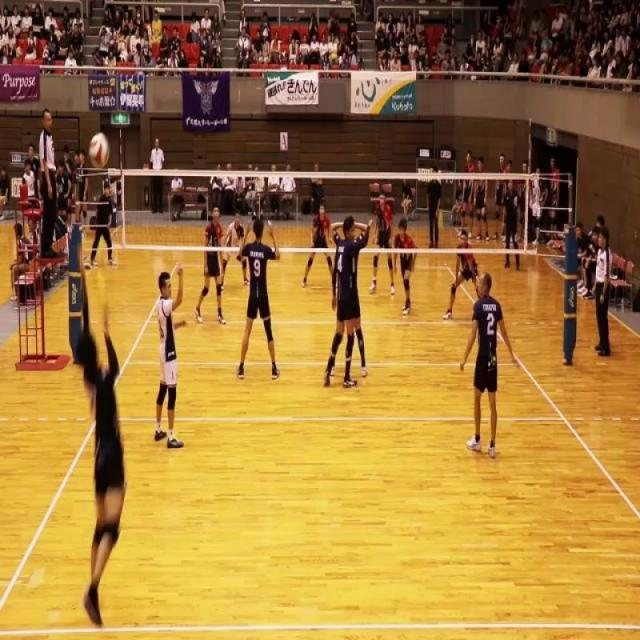volleyball: (88, 130, 110, 169)
